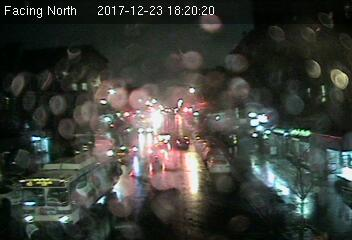bus: (17, 148, 115, 226)
car: (208, 157, 231, 173)
